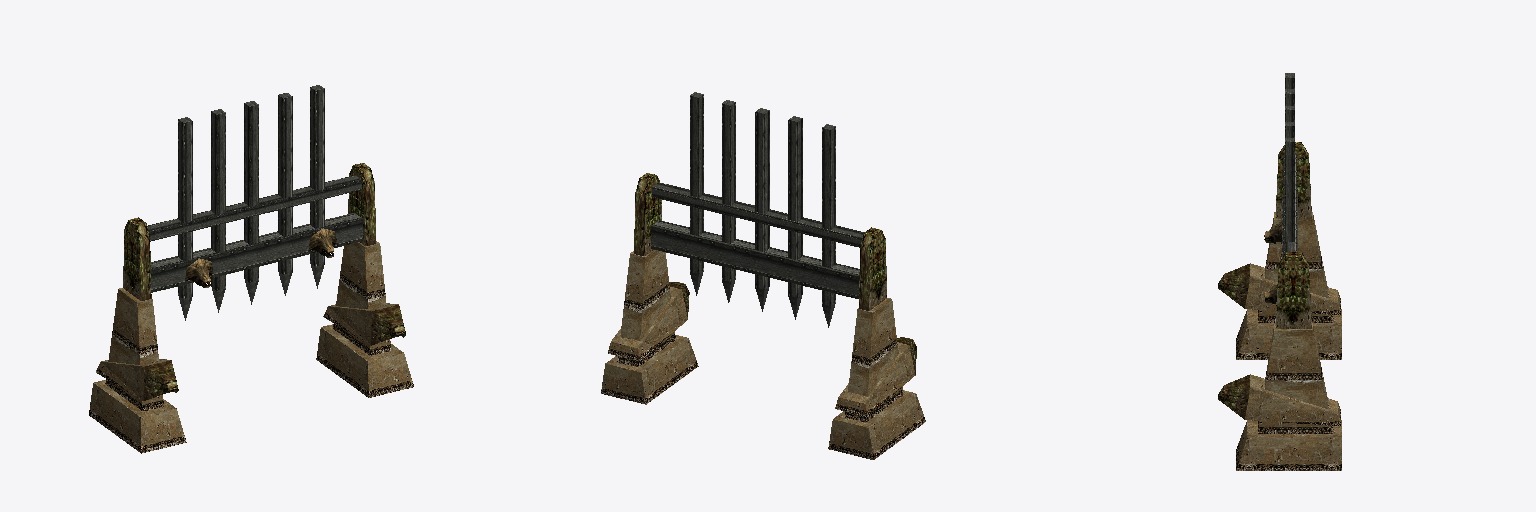
The picture shows the model from 3 angles: view 1: azimuth 30°, elevation 25°; view 2: azimuth 150°, elevation 25°; view 3: azimuth 270°, elevation 25°; orthographic projection.
Parts seen in each view (by area): view 1: Mesh_3, Mesh_0, Mesh_1, Mesh_2, Mesh_4; view 2: Mesh_3, Mesh_0, Mesh_1, Mesh_2; view 3: Mesh_0, Mesh_2, Mesh_3, Mesh_1.
Part boxes in pixels (bbox=[...]): Mesh_3: bbox=[135, 85, 362, 320]; Mesh_0: bbox=[89, 241, 413, 453]; Mesh_1: bbox=[128, 167, 405, 400]; Mesh_2: bbox=[123, 163, 369, 300]; Mesh_4: bbox=[185, 228, 337, 287]; Mesh_3: bbox=[648, 92, 875, 327]; Mesh_0: bbox=[601, 250, 925, 459]; Mesh_1: bbox=[634, 177, 916, 374]; Mesh_2: bbox=[640, 173, 886, 310]; Mesh_0: bbox=[1236, 212, 1341, 470]; Mesh_2: bbox=[1276, 142, 1311, 328]; Mesh_3: bbox=[1282, 73, 1297, 256]; Mesh_1: bbox=[1218, 142, 1311, 419].
Bounding box in the file's own units: 6 × 6.24 × 2.36.
5 materials, 5 textured.